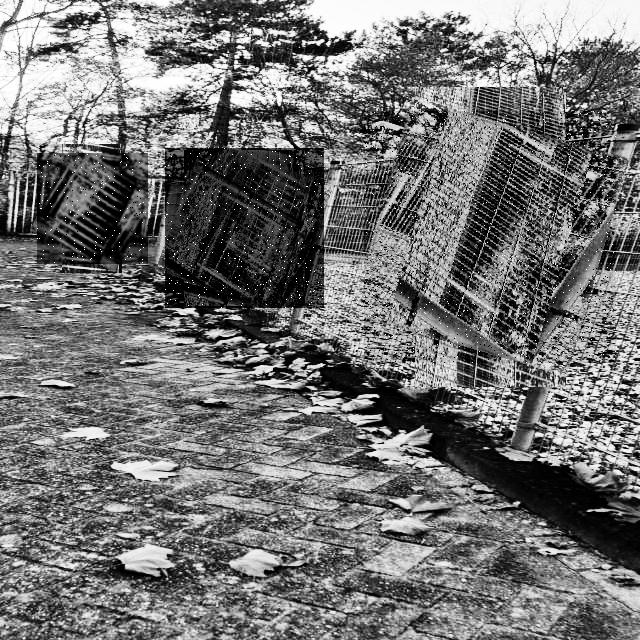fences: (364, 111, 616, 363), (165, 148, 324, 308), (37, 153, 148, 264)
